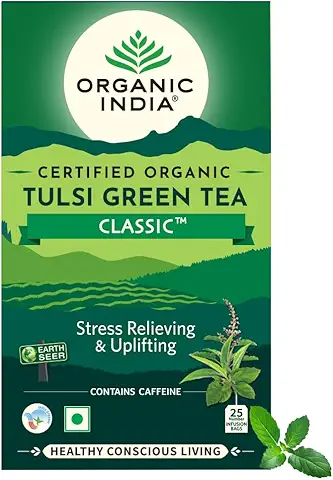Tea: (3, 1, 280, 472)
